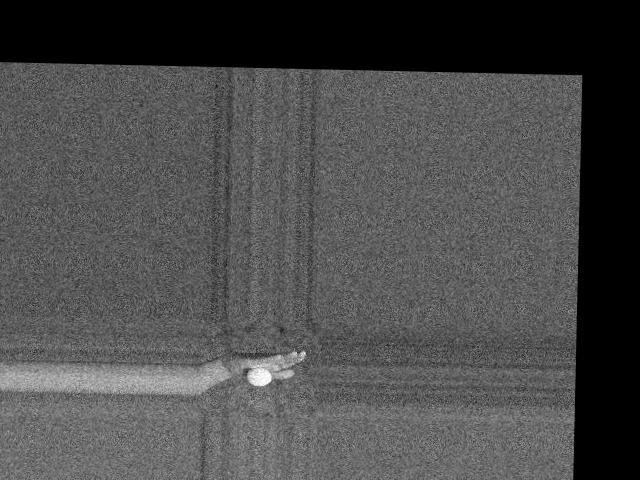egg: (246, 366, 271, 386)
